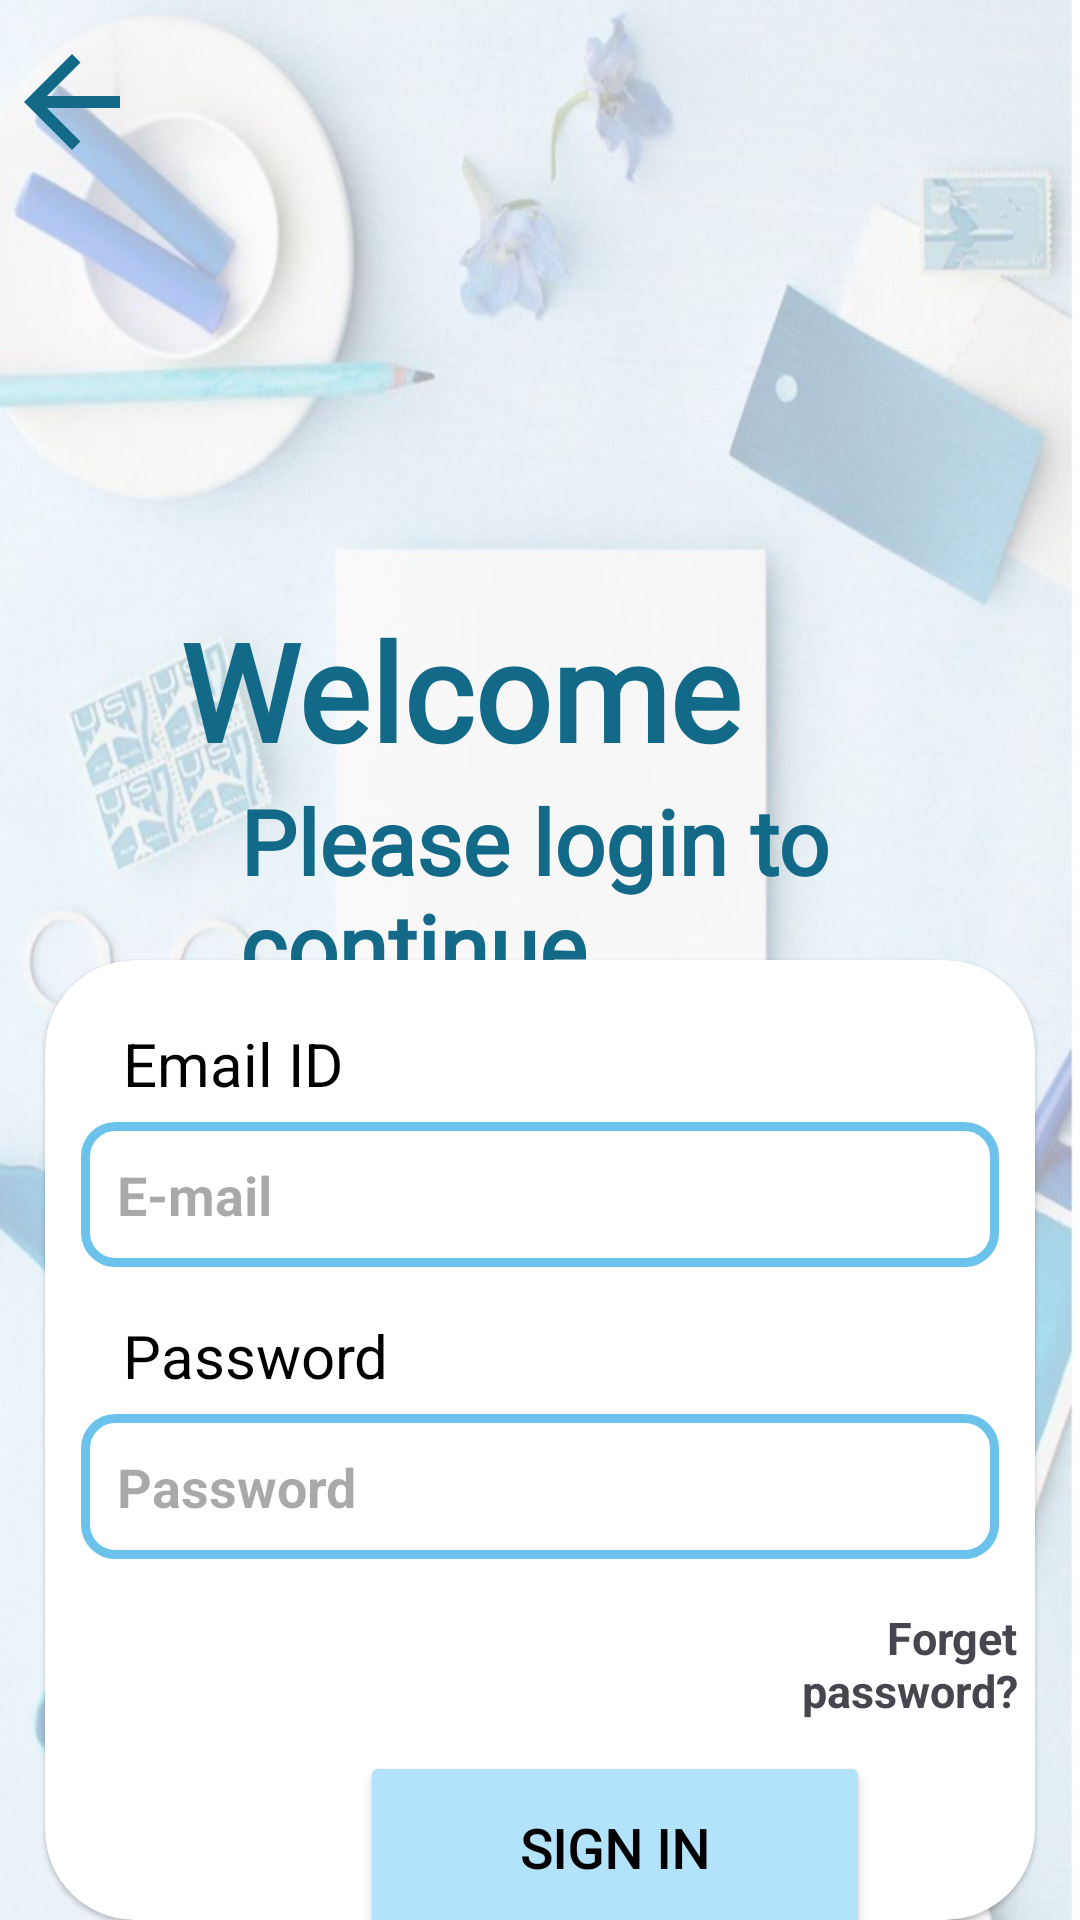

Screen size 1080px x 1920px. Icon name, then its box in pixels as bbox=(x1, y1, x2, y2):
arrow back brown: bbox=(24, 54, 144, 174)
